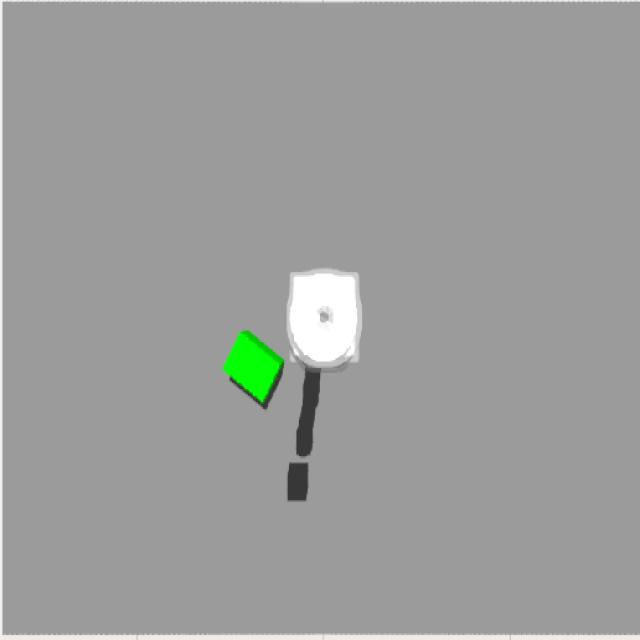box: (223, 331, 283, 407)
